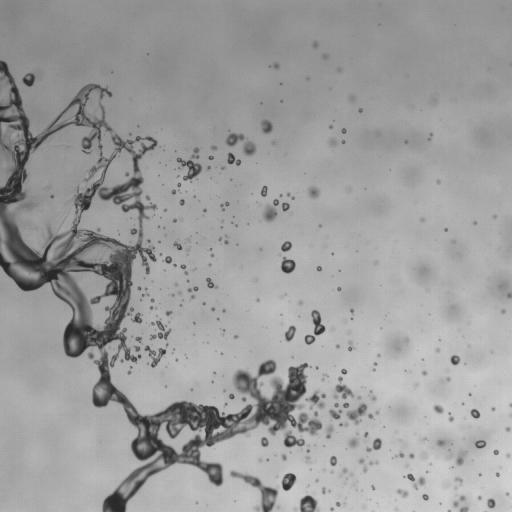droplet: (230, 470, 279, 511), (177, 147, 201, 180), (144, 345, 165, 367), (333, 376, 354, 398), (346, 403, 367, 424), (294, 494, 319, 511), (150, 319, 171, 339), (306, 389, 325, 409), (283, 430, 304, 447), (263, 199, 278, 221), (405, 473, 425, 489), (280, 473, 296, 490), (226, 132, 245, 146), (281, 257, 295, 273), (366, 438, 382, 451), (242, 140, 255, 155), (284, 325, 296, 341), (455, 449, 466, 465), (22, 73, 34, 86), (227, 153, 240, 165), (261, 120, 272, 133), (308, 186, 319, 198), (348, 436, 359, 448), (188, 286, 198, 299), (329, 409, 341, 419), (131, 313, 142, 323), (325, 425, 333, 438), (281, 241, 291, 251), (450, 355, 460, 365), (470, 408, 479, 418), (475, 440, 486, 448), (397, 489, 408, 497), (433, 405, 443, 413), (487, 498, 495, 508), (220, 202, 229, 210), (369, 391, 376, 401), (173, 241, 181, 249), (282, 202, 289, 211), (261, 437, 268, 446), (261, 186, 267, 196), (348, 340, 354, 350), (330, 456, 336, 466), (329, 139, 336, 146), (164, 256, 171, 263), (421, 451, 427, 459), (454, 477, 462, 483), (459, 506, 468, 511), (396, 452, 404, 457), (367, 413, 373, 419), (358, 458, 364, 464), (422, 494, 428, 500), (437, 440, 444, 445), (305, 456, 310, 463), (273, 63, 279, 68), (349, 95, 354, 101), (211, 145, 217, 150), (179, 199, 184, 205), (134, 346, 140, 351), (229, 393, 234, 399), (343, 402, 349, 407), (281, 454, 286, 460), (342, 468, 347, 474), (449, 414, 453, 421), (316, 266, 321, 271), (136, 337, 141, 342), (341, 369, 346, 374), (409, 453, 414, 458), (165, 311, 171, 315), (363, 466, 367, 472), (322, 487, 326, 493), (313, 42, 317, 47), (341, 129, 346, 133), (145, 195, 149, 200), (505, 427, 510, 431), (421, 437, 426, 441), (493, 450, 498, 454), (323, 54, 327, 58), (358, 108, 362, 112), (171, 190, 175, 194), (224, 240, 228, 244), (507, 293, 511, 297), (350, 309, 354, 313), (501, 309, 505, 313), (435, 348, 439, 352), (422, 371, 426, 375), (446, 377, 450, 381), (334, 403, 338, 407), (375, 410, 379, 414), (506, 453, 510, 457), (336, 502, 340, 506), (478, 495, 481, 500), (209, 156, 213, 159), (125, 172, 128, 176), (151, 298, 154, 302), (128, 370, 131, 374), (323, 374, 327, 377), (330, 507, 333, 511), (329, 125, 332, 128), (207, 166, 210, 169), (177, 183, 180, 186), (493, 215, 496, 218), (173, 219, 176, 222), (210, 254, 213, 257), (138, 286, 141, 289), (337, 287, 340, 290), (211, 307, 214, 310), (234, 335, 237, 338), (491, 407, 494, 410), (496, 473, 499, 476), (371, 486, 374, 489), (454, 486, 457, 489), (430, 133, 432, 136), (342, 140, 344, 143), (222, 166, 224, 169), (437, 180, 439, 183), (50, 195, 53, 197), (203, 209, 206, 211), (421, 218, 423, 221), (178, 292, 181, 294), (256, 299, 259, 301), (150, 306, 152, 309), (405, 339, 408, 341), (336, 345, 339, 347), (377, 354, 380, 356), (374, 362, 376, 365), (358, 396, 360, 399), (307, 449, 309, 452), (506, 492, 508, 495), (433, 99, 435, 101), (47, 186, 49, 188), (474, 222, 476, 224), (219, 238, 221, 240), (174, 264, 176, 266), (146, 293, 148, 295), (299, 302, 301, 304), (224, 403, 226, 405), (316, 479, 318, 481)
ligament: (0, 60, 316, 511), (304, 310, 325, 344), (453, 495, 465, 507), (206, 277, 217, 288), (181, 264, 188, 274), (363, 432, 368, 440), (339, 422, 348, 426), (287, 193, 293, 198), (369, 461, 378, 464), (510, 403, 511, 407), (447, 510, 451, 511)
